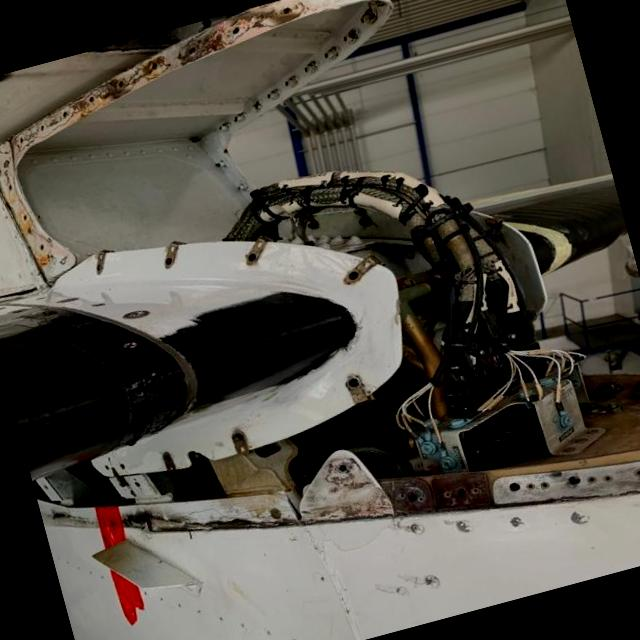Missing Fastener: (327, 456, 357, 489), (338, 259, 372, 286), (558, 468, 590, 494), (340, 369, 366, 394), (499, 473, 526, 496), (238, 248, 266, 267), (152, 252, 182, 269), (451, 482, 476, 502), (271, 3, 297, 19), (401, 487, 419, 508), (227, 426, 245, 445), (158, 446, 175, 465), (180, 42, 200, 58), (90, 256, 106, 273), (145, 58, 164, 72), (82, 92, 100, 105), (55, 109, 70, 122), (229, 24, 245, 35), (113, 78, 127, 90), (36, 238, 50, 250), (3, 180, 14, 192), (15, 134, 27, 144), (34, 121, 46, 131), (20, 212, 30, 222)
